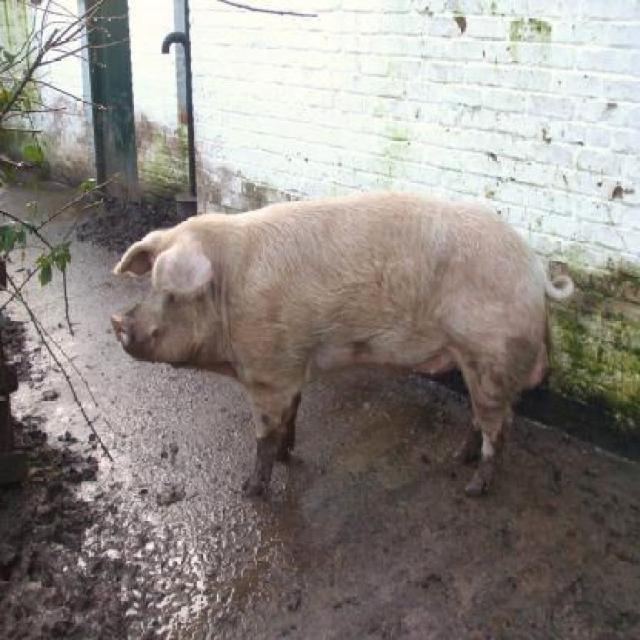Boar: (110, 189, 573, 500)
